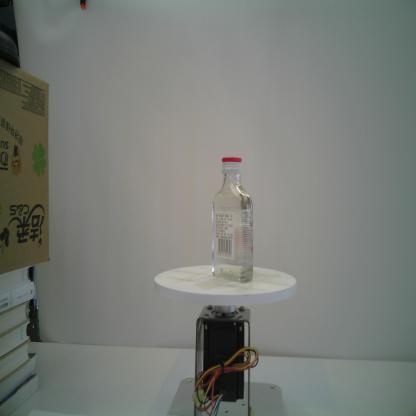Alcohol: (209, 156, 256, 286)
